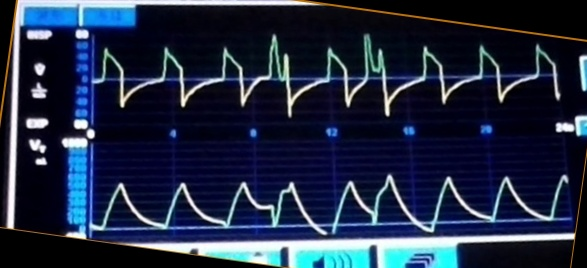Double_Triggering Flow: (108, 32, 526, 118)
Double_Triggering Volume: (119, 167, 550, 234)
